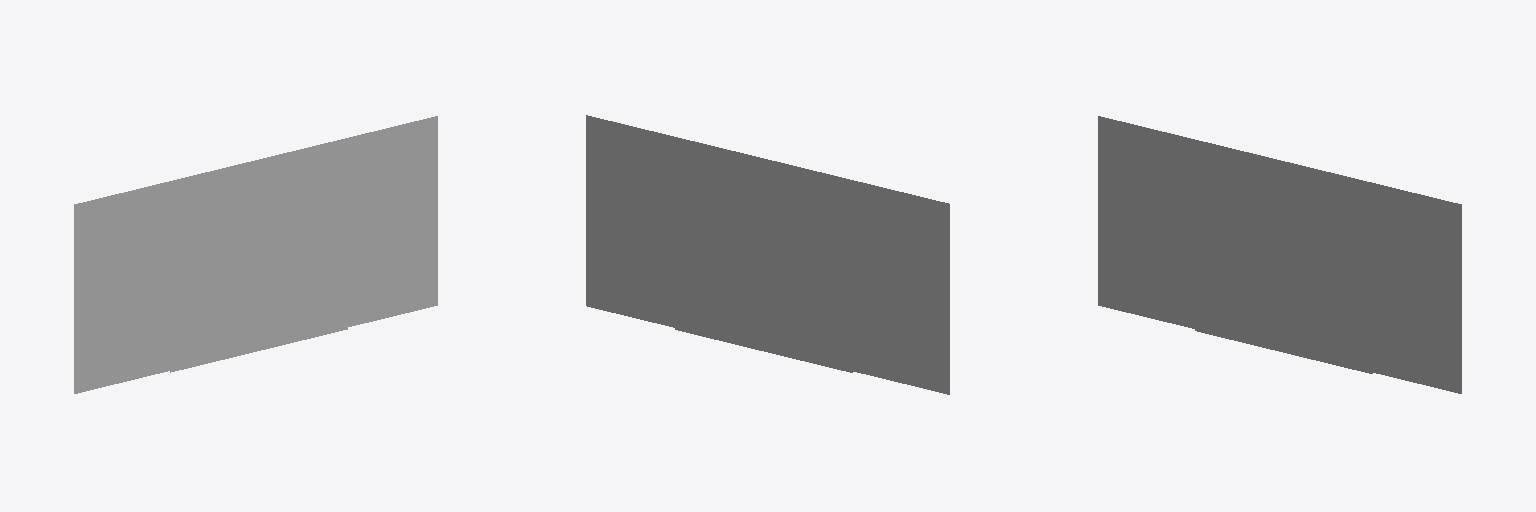
File: newTerrain4.obj
3 renders of one model, left to right at view 1: azimuth 30°, elevation 25°; view 2: azimuth 150°, elevation 25°; view 3: azimuth 330°, elevation 25°, orthographic.
Visible parts, largest first — view 1: Plane.001; view 2: Plane.001; view 3: Plane.001.
Part boxes in pixels (x1,y1,x2,y2): Plane.001: (74,116,437,393); Plane.001: (586,115,949,394); Plane.001: (1098,116,1461,393).
Size of the model in its own units: 2 by 1.01 by 0.0073.